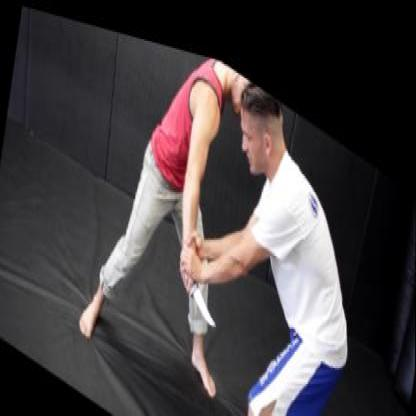knife: (175, 254, 222, 318)
